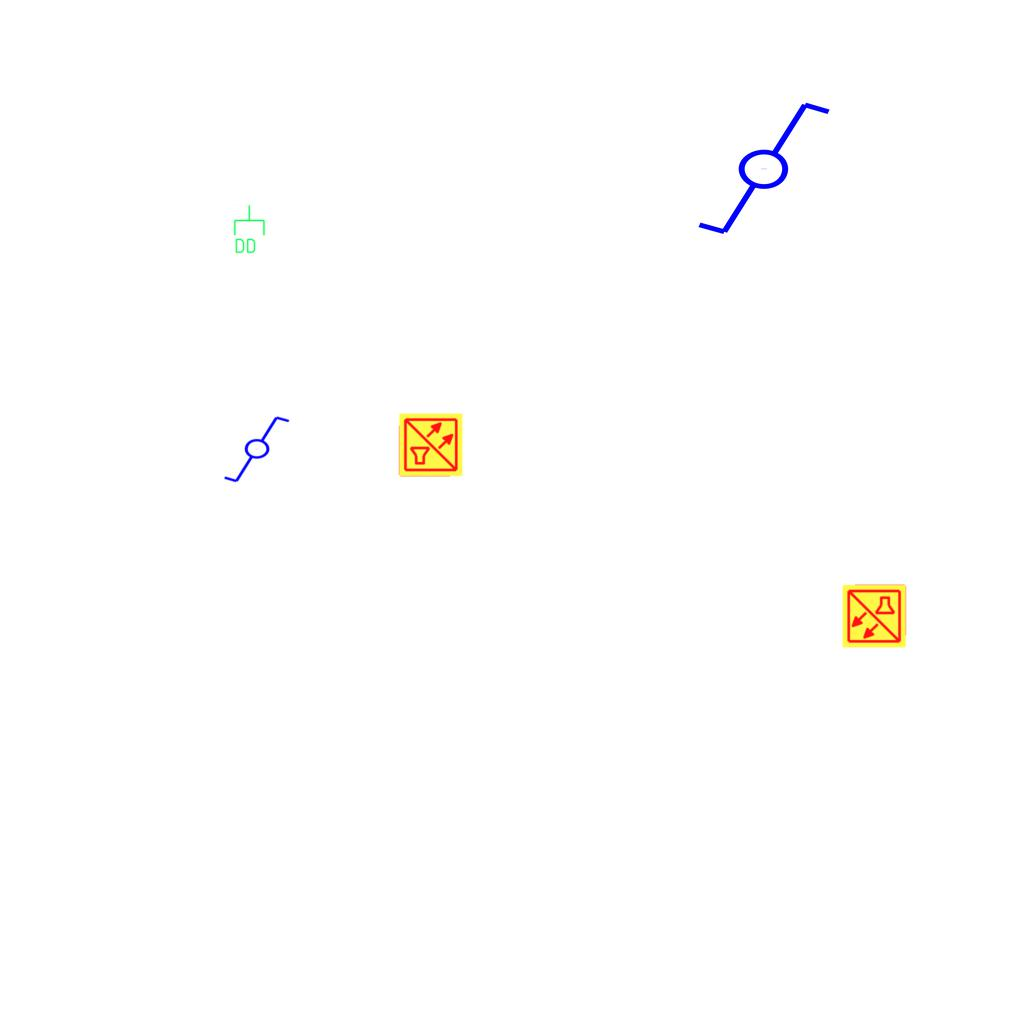Datenanschluss_zweifach: (232, 204, 266, 255)
OKW_Multisensormelder_(Kombination_optischer_Rauch-Kahlenmonoxid_Waerme-Melder): (398, 412, 464, 478), (841, 583, 907, 649)
Wechselschalter: (677, 95, 834, 239), (222, 414, 300, 486)
